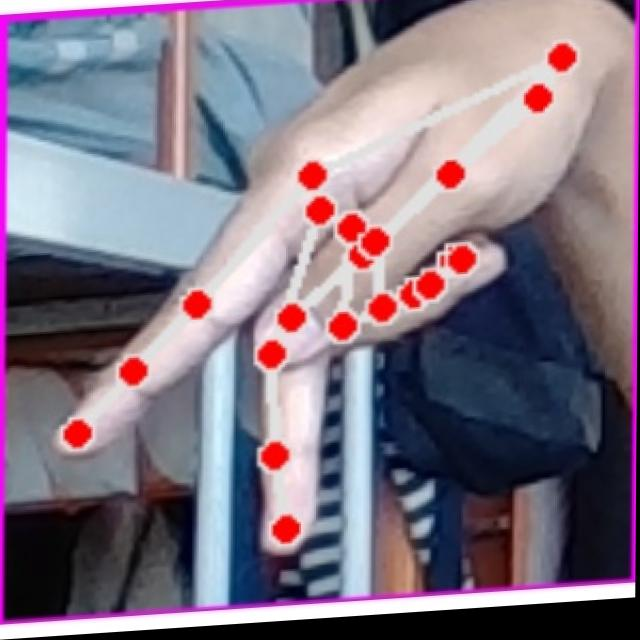P: (40, 0, 614, 589)
